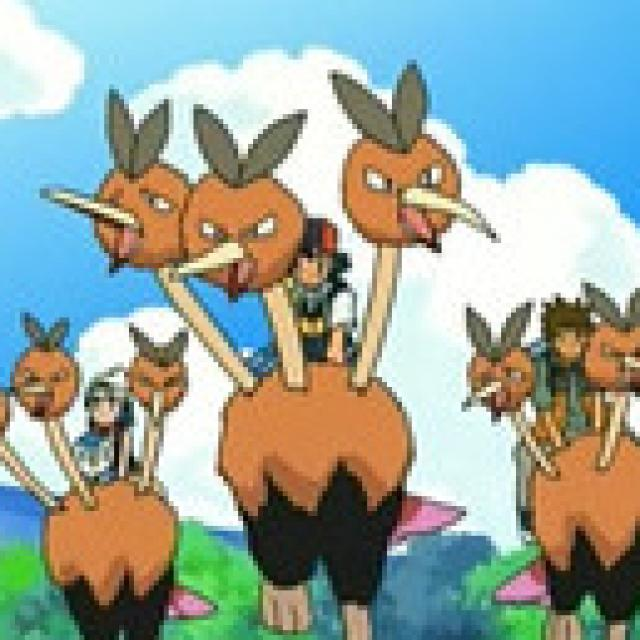Dodrio: (91, 114, 460, 594), (0, 304, 215, 640), (468, 289, 639, 640)
